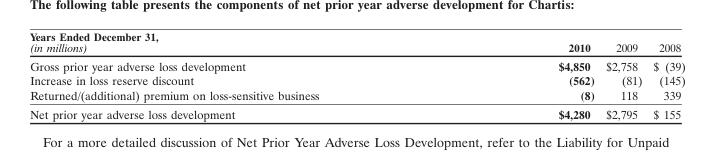table: (29, 29, 684, 121)
table column: (29, 29, 438, 121), (438, 29, 599, 121), (599, 29, 647, 121), (647, 29, 684, 121)
table column header: (29, 29, 684, 56)
table row: (29, 29, 684, 56), (29, 56, 684, 73), (29, 87, 684, 104), (29, 104, 684, 121), (29, 73, 684, 87)
